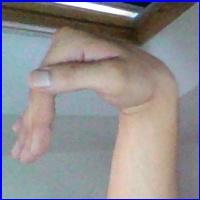del: (4, 27, 179, 178)
